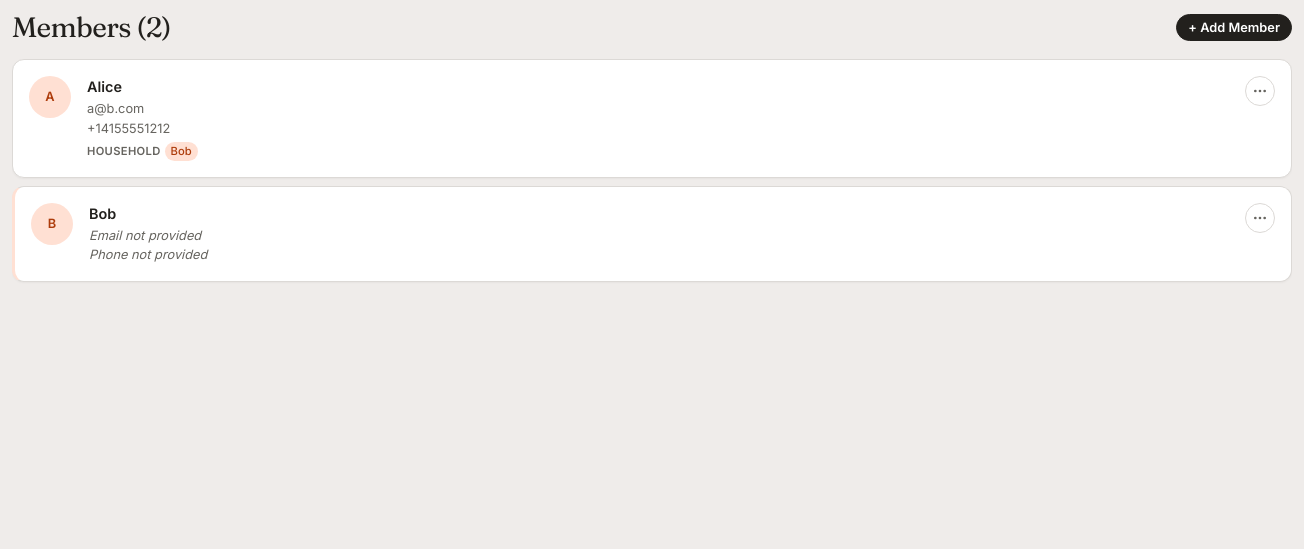
Test case: MembersTab › shows error when addMember throws
Click the button "+ Add Member": (1234, 27) [1176,14,1292,41]
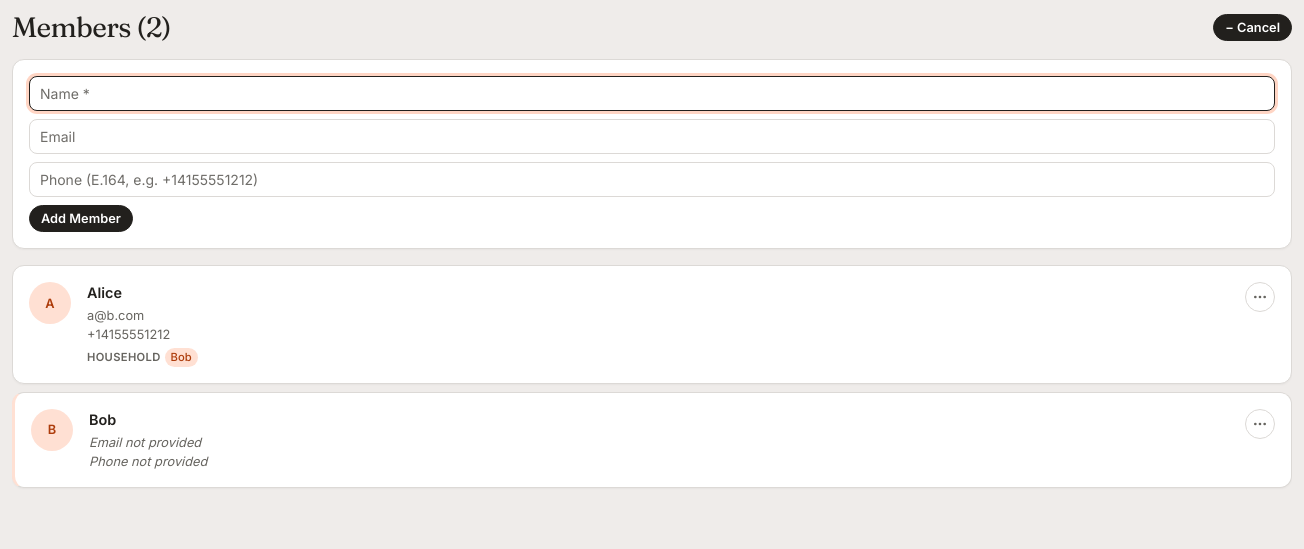
In the field with placeholder "Name *": (652, 93) [29,76,1275,111], type "Alice"
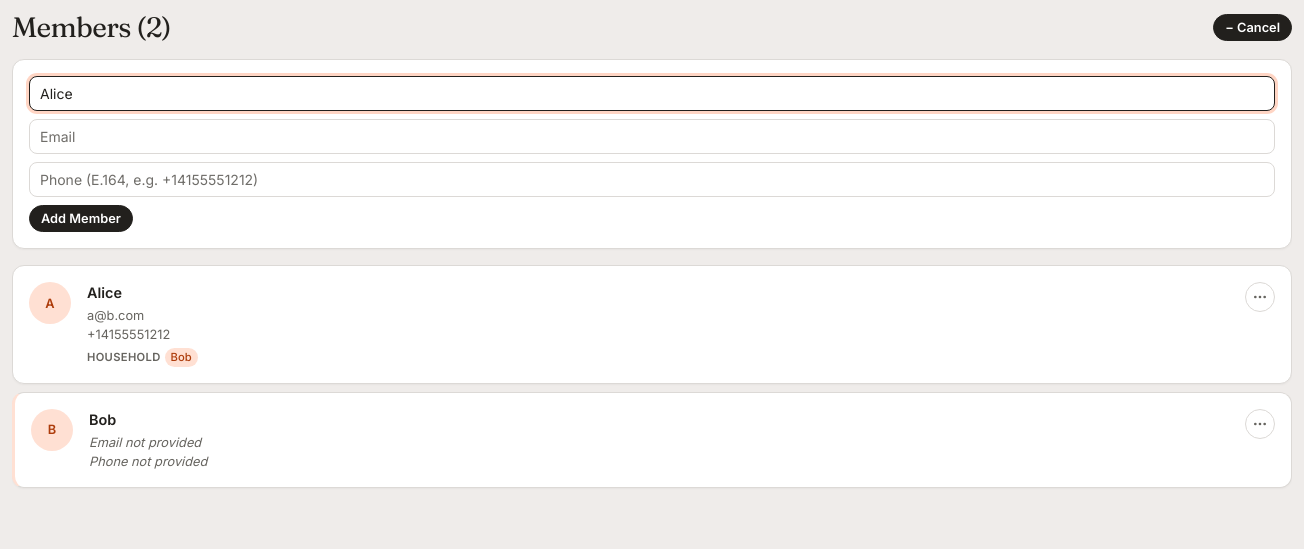
Click the button "Add Member": (81, 218) [29,205,133,232]
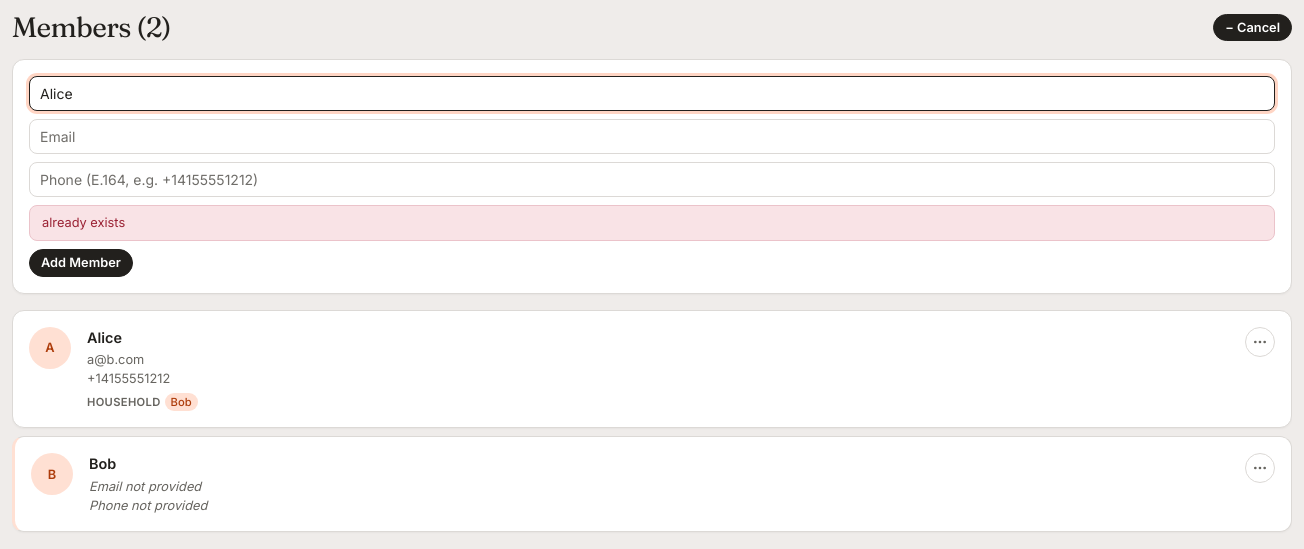
Now the text "already exists" is shown, box [29,205,1275,241]
